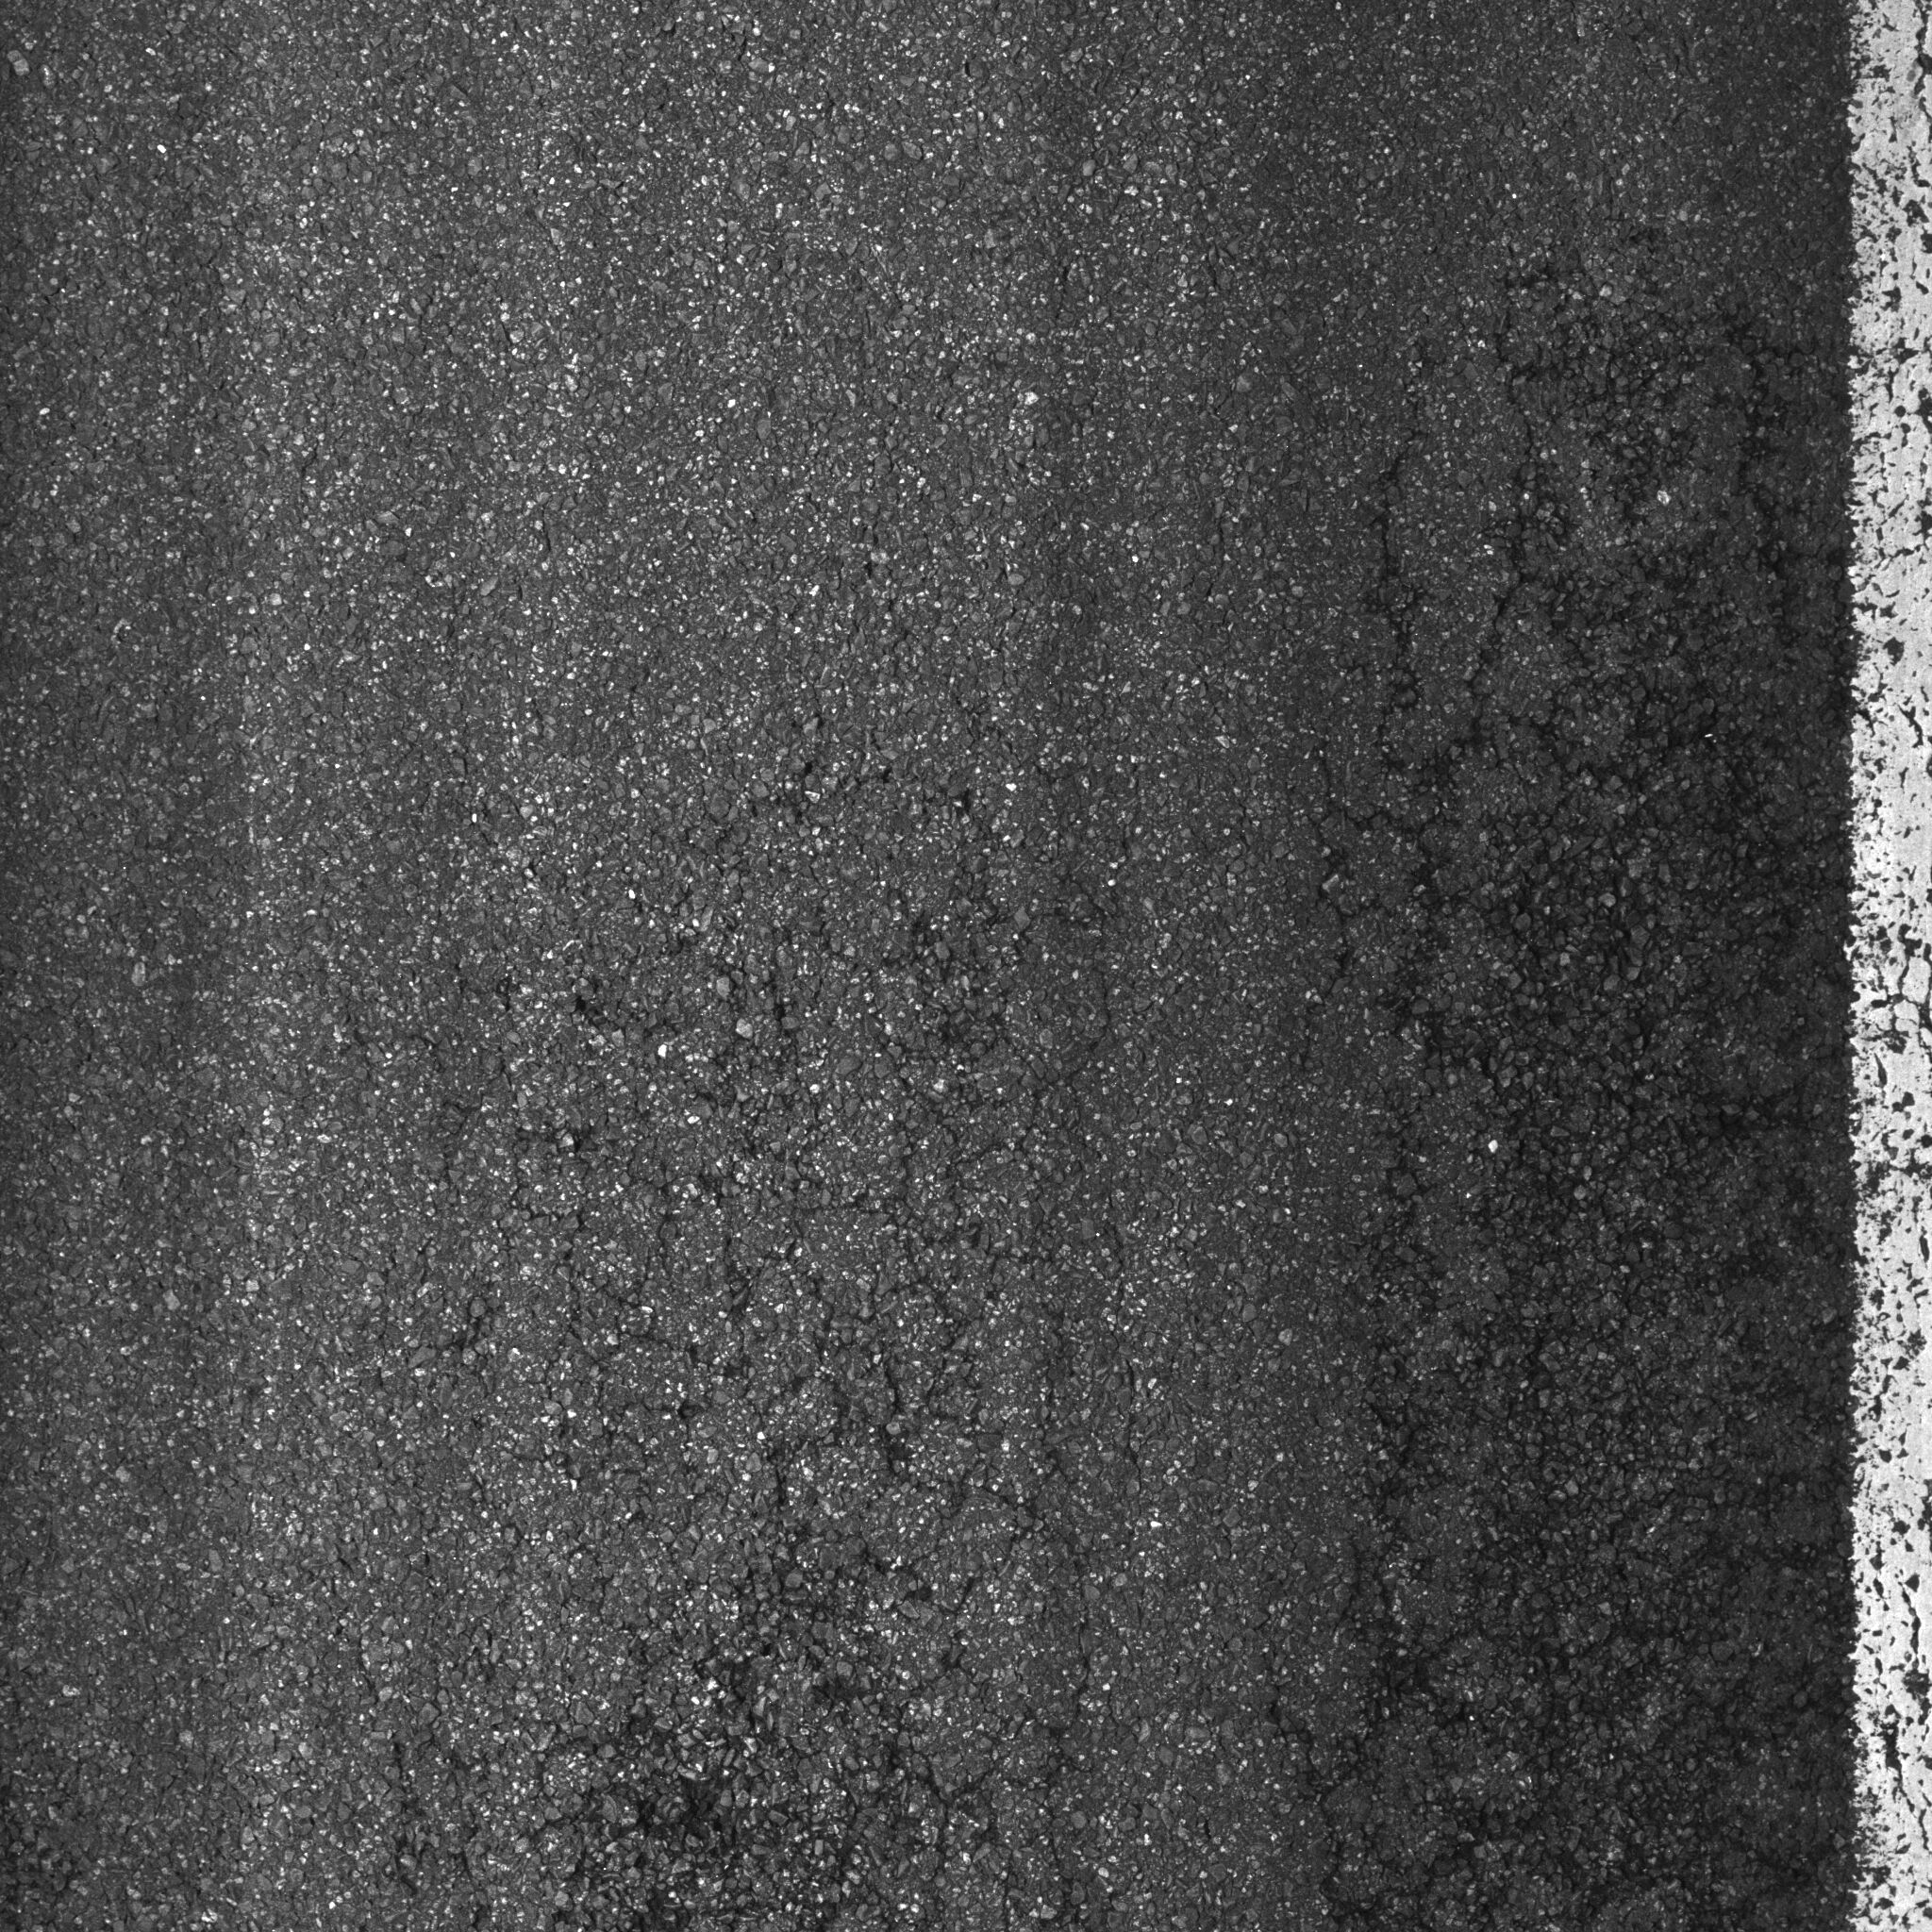alligator: (1260, 237, 1932, 1932), (391, 685, 1161, 1928)
